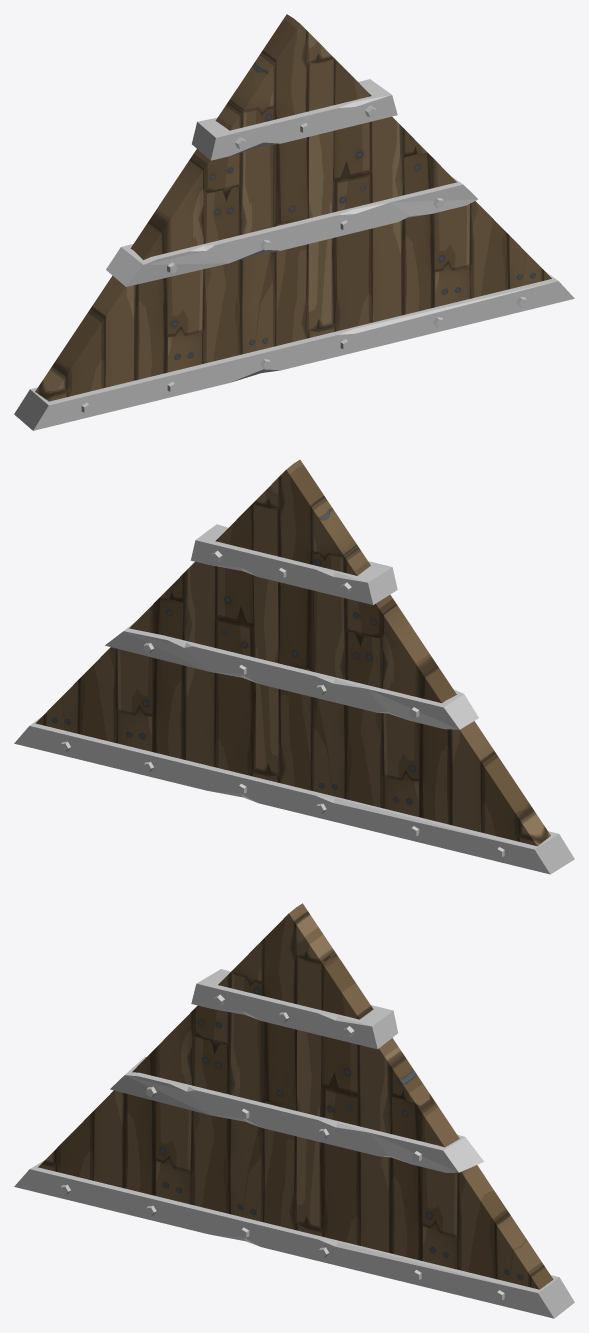
The model's file is SM_Bld_House_Roof_Wall_End_02.fbx.
The picture shows the model from 3 angles, top to bottom: view 1: azimuth 30°, elevation 25°; view 2: azimuth 150°, elevation 25°; view 3: azimuth 330°, elevation 25°; orthographic projection.
Visible parts, largest first — view 1: SM_Bld_House_Roof_Wall_End_02; view 2: SM_Bld_House_Roof_Wall_End_02; view 3: SM_Bld_House_Roof_Wall_End_02.
Part boxes in pixels (bbox=[...]): SM_Bld_House_Roof_Wall_End_02: bbox=[14, 14, 574, 430]; SM_Bld_House_Roof_Wall_End_02: bbox=[14, 459, 574, 874]; SM_Bld_House_Roof_Wall_End_02: bbox=[14, 903, 574, 1318].
Size of the model in its own units: 506 by 302 by 44.84.
